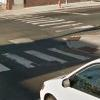Car: (28, 51, 100, 100)
